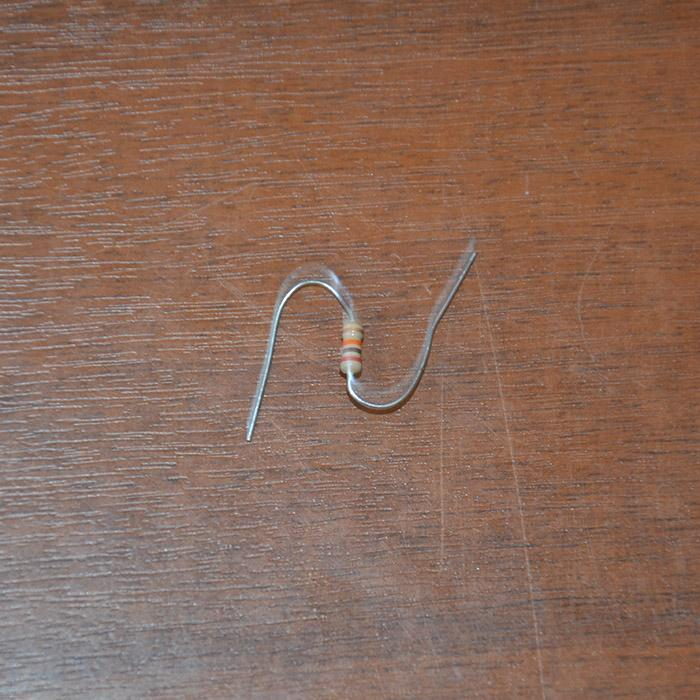resistor: (339, 323, 364, 377)
